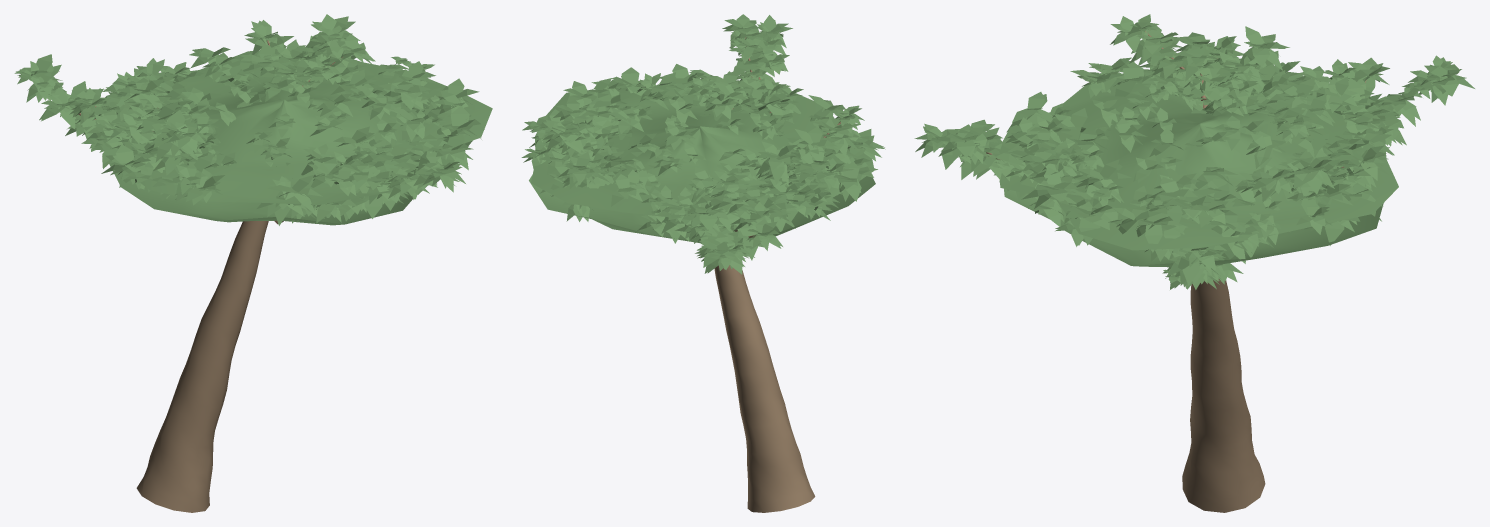
Rendered from island_tree_03_LOD0.fbx.
3 renders of one model, left to right at view 1: azimuth 30°, elevation 25°; view 2: azimuth 150°, elevation 25°; view 3: azimuth 270°, elevation 25°, orthographic. The views are drawn at different scales.
Visible parts, largest first — view 1: island_tree_03_LOD0; view 2: island_tree_03_LOD0; view 3: island_tree_03_LOD0.
Part boxes in pixels (left/top/right/bottom): island_tree_03_LOD0: left=14, top=14, right=492, bottom=512; island_tree_03_LOD0: left=521, top=14, right=885, bottom=512; island_tree_03_LOD0: left=914, top=14, right=1474, bottom=512.
Size of the model in its own units: 12.43 by 13.99 by 15.51.
